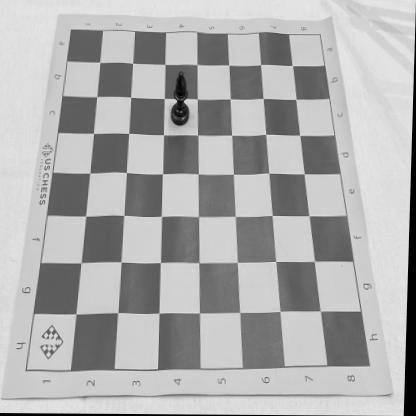black-bishop: (170, 70, 192, 126)
